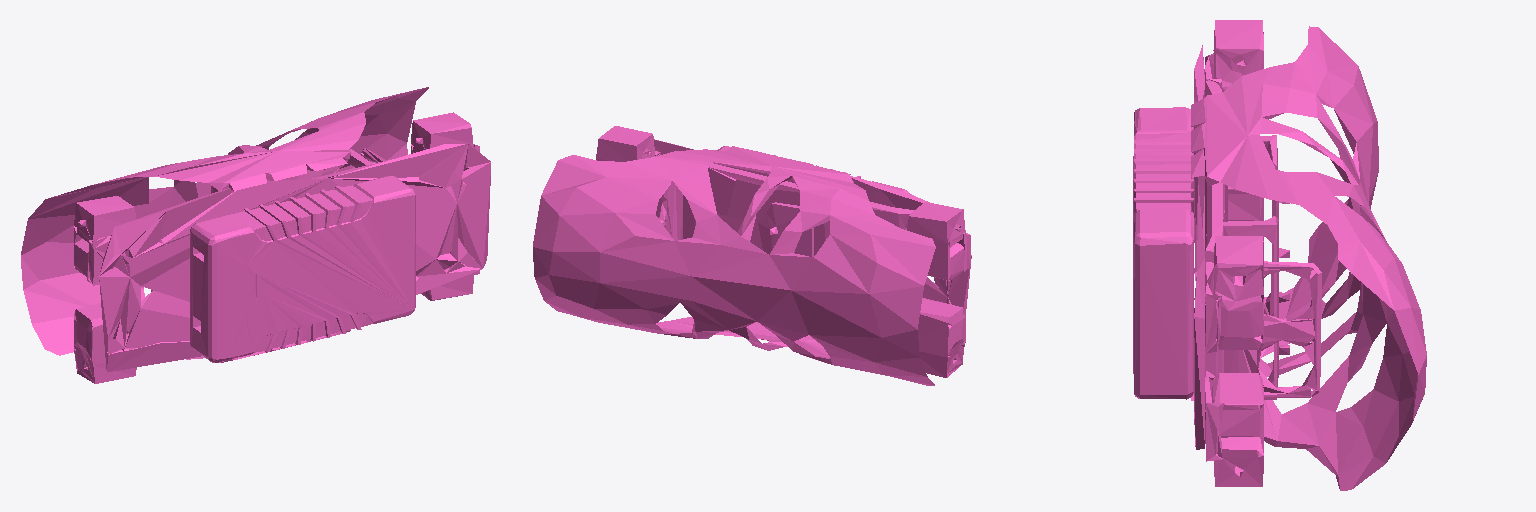
The robot description file, URDF, robot "PinkPanther_CML":
<?xml version="1.0" encoding="utf-8"?>
<!-- This URDF was automatically created by SolidWorks to URDF Exporter! Originally created by [author] ([email redacted]) 
     Commit Version: 1.5.1-0-g916b5db  Build Version: 1.5.7152.31018
     For more information, please see http://wiki.ros.org/sw_urdf_exporter -->
<robot
  name="PinkPanther_CML">
  <link
    name="base_link">
    <inertial>
      <origin
        xyz="0.00454071999132192 6.47897566883972E-05 0.0652075601364906"
        rpy="0 0 0" />
      <mass
        value="0.140325255511383" />
      <inertia
        ixx="0.000366286276832393"
        ixy="7.33485979630388E-08"
        ixz="-7.63809950386849E-05"
        iyy="0.000945919015213186"
        iyz="5.95557864844883E-08"
        izz="0.00109187006228455" />
    </inertial>
    <visual>
      <origin
        xyz="0 0 0"
        rpy="0 0 0" />
      <geometry>
        <mesh
          filename="package://PinkPanther_CML/meshes/low_qual/base_link_REVISED.STL" />
      </geometry>
      <material
        name="">
        <color
          rgba="1 0.470588235294118 0.823529411764706 1" />
      </material>
    </visual>
    <collision>
      <origin
        xyz="0 0 0"
        rpy="0 0 0" />
      <geometry>
        <mesh
          filename="package://PinkPanther_CML/meshes/low_qual/base_link_REVISED.STL" />
      </geometry>
    </collision>
  </link>
  <link
    name="lf_shoulder_link">
    <inertial>
      <origin
        xyz="-0.03075 0.010763 0.045764"
        rpy="0 0 0" />
      <mass
        value="0.0824" />
      <inertia
        ixx="1.9553E-05"
        ixy="2.0818E-07"
        ixz="3.2177E-07"
        iyy="1.9067E-05"
        iyz="-9.6011E-07"
        izz="2.1806E-05" />
    </inertial>
    <visual>
      <origin
        xyz="0 0 0"
        rpy="0 0 0" />
      <geometry>
        <mesh
          filename="package://PinkPanther_CML/meshes/low_qual/lf_shoulder_link.STL" />
      </geometry>
      <material
        name="">
        <color
          rgba="0.79216 0.81961 0.93333 1" />
      </material>
    </visual>
    <collision>
      <origin
        xyz="0 0 0"
        rpy="0 0 0" />
      <geometry>
        <mesh
          filename="package://PinkPanther_CML/meshes/low_qual/lf_shoulder_link.STL" />
      </geometry>
    </collision>
  </link>
  <joint
    name="LF_ARMPIT"
    type="revolute">
    <origin
      xyz="0.086416 0.04808 0.020486"
      rpy="1.5666 -5.102E-05 3.1416" />
    <parent
      link="base_link" />
    <child
      link="lf_shoulder_link" />
    <axis
      xyz="1 -5.102E-05 0" />
    <limit
      lower="-0.6"
      upper="0.6"
      effort="4"
      velocity="0.188" />
  </joint>
  <link
    name="lf_thigh_link">
    <inertial>
      <origin
        xyz="0.059996 -0.034184 0.032377"
        rpy="0 0 0" />
      <mass
        value="0.20467" />
      <inertia
        ixx="5.2641E-05"
        ixy="-6.8704E-06"
        ixz="-9.1195E-09"
        iyy="0.0002077"
        iyz="4.2931E-10"
        izz="0.00019669" />
    </inertial>
    <visual>
      <origin
        xyz="0 0 0"
        rpy="0 0 0" />
      <geometry>
        <mesh
          filename="package://PinkPanther_CML/meshes/low_qual/lf_thigh_link.STL" />
      </geometry>
      <material
        name="">
        <color
          rgba="0.79216 0.81961 0.93333 1" />
      </material>
    </visual>
    <collision>
      <origin
        xyz="0 0 0"
        rpy="0 0 0" />
      <geometry>
        <mesh
          filename="package://PinkPanther_CML/meshes/low_qual/lf_thigh_link.STL" />
      </geometry>
    </collision>
  </link>
  <joint
    name="LF_ELBOW"
    type="revolute">
    <origin
      xyz="-0.029275 -0.014657 0.021201"
      rpy="0 0 -0.43549" />
    <parent
      link="lf_shoulder_link" />
    <child
      link="lf_thigh_link" />
    <axis
      xyz="0 0 1" />
    <limit
      lower="-1"
      upper="1.2"
      effort="4"
      velocity="0.188" />
  </joint>
  <link
    name="lf_calf_link">
    <inertial>
      <origin
        xyz="-0.0562746607594241 -0.0312019222312566 0.0300902624876031"
        rpy="0 0 0" />
      <mass
        value="0.124150378027878" />
      <inertia
        ixx="2.7133125427073E-05"
        ixy="6.52330853460605E-06"
        ixz="-6.70500134135611E-09"
        iyy="0.000259455346859976"
        iyz="3.49049560417286E-09"
        izz="0.000248912943667171" />
    </inertial>
    <visual>
      <origin
        xyz="0 0 0"
        rpy="0 0 0" />
      <geometry>
        <mesh
          filename="package://PinkPanther_CML/meshes/low_qual/lf_calf_link.STL" />
      </geometry>
      <material
        name="">
        <color
          rgba="0.792156862745098 0.819607843137255 0.933333333333333 1" />
      </material>
    </visual>
    <collision>
      <origin
        xyz="0 0 0"
        rpy="0 0 0" />
      <geometry>
        <mesh
          filename="package://PinkPanther_CML/meshes/low_qual/lf_calf_link.STL" />
      </geometry>
    </collision>
  </link>
  <joint
    name="LF_KNEE"
    type="revolute">
    <origin
      xyz="0.14707 -0.034829 0.0022602"
      rpy="0 0 0.93771" />
    <parent
      link="lf_thigh_link" />
    <child
      link="lf_calf_link" />
    <axis
      xyz="0 0 1" />
    <limit
      lower="-0.6"
      upper="1.5"
      effort="4"
      velocity="0.188" />
  </joint>
  <link
    name="rf_shoulder_link">
    <inertial>
      <origin
        xyz="-0.030838 0.010759 -0.045563"
        rpy="0 0 0" />
      <mass
        value="0.082397" />
      <inertia
        ixx="1.9553E-05"
        ixy="2.0806E-07"
        ixz="-3.2173E-07"
        iyy="1.9066E-05"
        iyz="9.7295E-07"
        izz="2.1806E-05" />
    </inertial>
    <visual>
      <origin
        xyz="0 0 0"
        rpy="0 0 0" />
      <geometry>
        <mesh
          filename="package://PinkPanther_CML/meshes/low_qual/rf_shoulder_link.STL" />
      </geometry>
      <material
        name="">
        <color
          rgba="0.79216 0.81961 0.93333 1" />
      </material>
    </visual>
    <collision>
      <origin
        xyz="0 0 0"
        rpy="0 0 0" />
      <geometry>
        <mesh
          filename="package://PinkPanther_CML/meshes/low_qual/rf_shoulder_link.STL" />
      </geometry>
    </collision>
  </link>
  <joint
    name="RF_ARMPIT"
    type="revolute">
    <origin
      xyz="0.086926 -0.04808 0.020486"
      rpy="1.5736 5.102E-05 3.1416" />
    <parent
      link="base_link" />
    <child
      link="rf_shoulder_link" />
    <axis
      xyz="1 5.102E-05 0" />
    <limit
      lower="-0.6"
      upper="0.6"
      effort="4"
      velocity="0.188" />
  </joint>
  <link
    name="rf_thigh_link">
    <inertial>
      <origin
        xyz="0.059996319544716 -0.0341838862880749 -0.0326354177099718"
        rpy="0 0 0" />
      <mass
        value="0.204666659119259" />
      <inertia
        ixx="5.26405020771446E-05"
        ixy="-6.87045925823286E-06"
        ixz="-9.16134381790139E-09"
        iyy="0.000207700318237006"
        iyz="4.24645067196885E-10"
        izz="0.000196694737864689" />
    </inertial>
    <visual>
      <origin
        xyz="0 0 0"
        rpy="0 0 0" />
      <geometry>
        <mesh
          filename="package://PinkPanther_CML/meshes/low_qual/rf_thigh_link.STL" />
      </geometry>
      <material
        name="">
        <color
          rgba="0.792156862745098 0.819607843137255 0.933333333333333 1" />
      </material>
    </visual>
    <collision>
      <origin
        xyz="0 0 0"
        rpy="0 0 0" />
      <geometry>
        <mesh
          filename="package://PinkPanther_CML/meshes/low_qual/rf_thigh_link.STL" />
      </geometry>
    </collision>
  </link>
  <joint
    name="RF_ELBOW"
    type="revolute">
    <origin
      xyz="-0.029276 -0.01466 -0.020328"
      rpy="0 0 -0.42784" />
    <parent
      link="rf_shoulder_link" />
    <child
      link="rf_thigh_link" />
    <axis
      xyz="0 0 1" />
    <limit
      lower="-1"
      upper="1.2"
      effort="4"
      velocity="0.188" />
  </joint>
  <link
    name="rf_calf_link">
    <inertial>
      <origin
        xyz="-0.0562746594086836 -0.031201912312426 -0.0304061026125255"
        rpy="0 0 0" />
      <mass
        value="0.124150283030027" />
      <inertia
        ixx="2.71331044981176E-05"
        ixy="6.52340639611649E-06"
        ixz="-7.24574922911367E-09"
        iyy="0.000259454989110842"
        iyz="3.51796278658813E-09"
        izz="0.000248912583960562" />
    </inertial>
    <visual>
      <origin
        xyz="0 0 0"
        rpy="0 0 0" />
      <geometry>
        <mesh
          filename="package://PinkPanther_CML/meshes/low_qual/rf_calf_link.STL" />
      </geometry>
      <material
        name="">
        <color
          rgba="0.792156862745098 0.819607843137255 0.933333333333333 1" />
      </material>
    </visual>
    <collision>
      <origin
        xyz="0 0 0"
        rpy="0 0 0" />
      <geometry>
        <mesh
          filename="package://PinkPanther_CML/meshes/low_qual/rf_calf_link.STL" />
      </geometry>
    </collision>
  </link>
  <joint
    name="RF_KNEE"
    type="revolute">
    <origin
      xyz="0.14707 -0.034829 -0.0017563"
      rpy="0 0 0.93378" />
    <parent
      link="rf_thigh_link" />
    <child
      link="rf_calf_link" />
    <axis
      xyz="0 0 1" />
    <limit
      lower="-0.6"
      upper="1.5"
      effort="4"
      velocity="0.188" />
  </joint>
  <link
    name="lb_shoulder_link">
    <inertial>
      <origin
        xyz="0.0268112424173798 0.0107596960598041 0.0457636308417059"
        rpy="0 0 0" />
      <mass
        value="0.0823995961404887" />
      <inertia
        ixx="1.95534937544982E-05"
        ixy="2.08177132098421E-07"
        ixz="3.21769091341535E-07"
        iyy="1.90668948433689E-05"
        iyz="-9.60105437391446E-07"
        izz="2.1805721300216E-05" />
    </inertial>
    <visual>
      <origin
        xyz="0 0 0"
        rpy="0 0 0" />
      <geometry>
        <mesh
          filename="package://PinkPanther_CML/meshes/low_qual/lb_shoulder_link.STL" />
      </geometry>
      <material
        name="">
        <color
          rgba="0.792156862745098 0.819607843137255 0.933333333333333 1" />
      </material>
    </visual>
    <collision>
      <origin
        xyz="0 0 0"
        rpy="0 0 0" />
      <geometry>
        <mesh
          filename="package://PinkPanther_CML/meshes/low_qual/lb_shoulder_link.STL" />
      </geometry>
    </collision>
  </link>
  <joint
    name="LB_ARMPIT"
    type="revolute">
    <origin
      xyz="-0.090843 0.04808 0.020486"
      rpy="1.5668 -5.102E-05 -3.1416" />
    <parent
      link="base_link" />
    <child
      link="lb_shoulder_link" />
    <axis
      xyz="1 -5.102E-05 0" />
    <limit
      lower="-0.6"
      upper="0.6"
      effort="4"
      velocity="0.188" />
  </joint>
  <link
    name="lb_thigh_link">
    <inertial>
      <origin
        xyz="0.0599962531882521 -0.0341838743931865 0.0323774662751334"
        rpy="0 0 0" />
      <mass
        value="0.204667094970786" />
      <inertia
        ixx="5.26405893727808E-05"
        ixy="-6.87037873543066E-06"
        ixz="-9.16501184768225E-09"
        iyy="0.000207700430481537"
        iyz="4.05445574988764E-10"
        izz="0.00019669493307742" />
    </inertial>
    <visual>
      <origin
        xyz="0 0 0"
        rpy="0 0 0" />
      <geometry>
        <mesh
          filename="package://PinkPanther_CML/meshes/low_qual/lb_thigh_link.STL" />
      </geometry>
      <material
        name="">
        <color
          rgba="0.792156862745098 0.819607843137255 0.933333333333333 1" />
      </material>
    </visual>
    <collision>
      <origin
        xyz="0 0 0"
        rpy="0 0 0" />
      <geometry>
        <mesh
          filename="package://PinkPanther_CML/meshes/low_qual/lb_thigh_link.STL" />
      </geometry>
    </collision>
  </link>
  <joint
    name="LB_ELBOW"
    type="revolute">
    <origin
      xyz="0.028287 -0.014659 0.021201"
      rpy="0 0 -0.46494" />
    <parent
      link="lb_shoulder_link" />
    <child
      link="lb_thigh_link" />
    <axis
      xyz="0 0 1" />
    <limit
      lower="-1"
      upper="1.2"
      effort="4"
      velocity="0.188" />
  </joint>
  <link
    name="lb_calf_link">
    <inertial>
      <origin
        xyz="-0.0562746283337433 -0.0312019131985415 0.0300903536116095"
        rpy="0 0 0" />
      <mass
        value="0.124150345082354" />
      <inertia
        ixx="2.71331212983521E-05"
        ixy="6.52346284637176E-06"
        ixz="-6.71092220781001E-09"
        iyy="0.000259455087280996"
        iyz="3.48846832947781E-09"
        izz="0.000248912689473426" />
    </inertial>
    <visual>
      <origin
        xyz="0 0 0"
        rpy="0 0 0" />
      <geometry>
        <mesh
          filename="package://PinkPanther_CML/meshes/low_qual/lb_calf_link.STL" />
      </geometry>
      <material
        name="">
        <color
          rgba="0.792156862745098 0.819607843137255 0.933333333333333 1" />
      </material>
    </visual>
    <collision>
      <origin
        xyz="0 0 0"
        rpy="0 0 0" />
      <geometry>
        <mesh
          filename="package://PinkPanther_CML/meshes/low_qual/lb_calf_link.STL" />
      </geometry>
    </collision>
  </link>
  <joint
    name="LB_KNEE"
    type="revolute">
    <origin
      xyz="0.14707 -0.034829 0.0022602"
      rpy="0 0 0.97678" />
    <parent
      link="lb_thigh_link" />
    <child
      link="lb_calf_link" />
    <axis
      xyz="0 0 1" />
    <limit
      lower="-0.6"
      upper="1.5"
      effort="4"
      velocity="0.188" />
  </joint>
  <link
    name="rb_shoulder_link">
    <inertial>
      <origin
        xyz="0.0267231655282443 0.010762075261042 -0.0455633379422674"
        rpy="0 0 0" />
      <mass
        value="0.0823973934424499" />
      <inertia
        ixx="1.95529733228597E-05"
        ixy="2.08060157237391E-07"
        ixz="-3.21734054822669E-07"
        iyy="1.90663267893417E-05"
        iyz="9.7294659149752E-07"
        izz="2.18055626025946E-05" />
    </inertial>
    <visual>
      <origin
        xyz="0 0 0"
        rpy="0 0 0" />
      <geometry>
        <mesh
          filename="package://PinkPanther_CML/meshes/low_qual/rb_shoulder_link.STL" />
      </geometry>
      <material
        name="">
        <color
          rgba="0.792156862745098 0.819607843137255 0.933333333333333 1" />
      </material>
    </visual>
    <collision>
      <origin
        xyz="0 0 0"
        rpy="0 0 0" />
      <geometry>
        <mesh
          filename="package://PinkPanther_CML/meshes/low_qual/rb_shoulder_link.STL" />
      </geometry>
    </collision>
  </link>
  <joint
    name="RB_ARMPIT"
    type="revolute">
    <origin
      xyz="-0.090333 -0.04808 0.020486"
      rpy="1.5701 5.102E-05 -3.1416" />
    <parent
      link="base_link" />
    <child
      link="rb_shoulder_link" />
    <axis
      xyz="1 5.102E-05 0" />
    <limit
      lower="-0.6"
      upper="0.6"
      effort="4"
      velocity="0.188" />
  </joint>
  <link
    name="rb_thigh_link">
    <inertial>
      <origin
        xyz="0.0599962641867017 -0.0341838839492449 -0.0322633194933277"
        rpy="0 0 0" />
      <mass
        value="0.204666926145609" />
      <inertia
        ixx="5.26405352597993E-05"
        ixy="-6.87043903505302E-06"
        ixz="-9.13736190376255E-09"
        iyy="0.000207700313943162"
        iyz="3.89261437438874E-10"
        izz="0.000196694776060325" />
    </inertial>
    <visual>
      <origin
        xyz="0 0 0"
        rpy="0 0 0" />
      <geometry>
        <mesh
          filename="package://PinkPanther_CML/meshes/low_qual/rb_thigh_link.STL" />
      </geometry>
      <material
        name="">
        <color
          rgba="0.792156862745098 0.819607843137255 0.933333333333333 1" />
      </material>
    </visual>
    <collision>
      <origin
        xyz="0 0 0"
        rpy="0 0 0" />
      <geometry>
        <mesh
          filename="package://PinkPanther_CML/meshes/low_qual/rb_thigh_link.STL" />
      </geometry>
    </collision>
  </link>
  <joint
    name="RB_ELBOW"
    type="revolute">
    <origin
      xyz="0.028285 -0.014657 -0.0207"
      rpy="0 0 -0.46283" />
    <parent
      link="rb_shoulder_link" />
    <child
      link="rb_thigh_link" />
    <axis
      xyz="0 0 1" />
    <limit
      lower="-1"
      upper="1.2"
      effort="4"
      velocity="0.188" />
  </joint>
  <link
    name="rb_calf_link">
    <inertial>
      <origin
        xyz="-0.0562746202737299 -0.031201906093811 -0.0300128862017215"
        rpy="0 0 0" />
      <mass
        value="0.124150292571281" />
      <inertia
        ixx="2.71331103837322E-05"
        ixy="6.52354994917408E-06"
        ixz="-6.97162935785559E-09"
        iyy="0.000259454856699454"
        iyz="3.50104288566254E-09"
        izz="0.0002489124593" />
    </inertial>
    <visual>
      <origin
        xyz="0 0 0"
        rpy="0 0 0" />
      <geometry>
        <mesh
          filename="package://PinkPanther_CML/meshes/low_qual/rb_calf_link.STL" />
      </geometry>
      <material
        name="">
        <color
          rgba="0.792156862745098 0.819607843137255 0.933333333333333 1" />
      </material>
    </visual>
    <collision>
      <origin
        xyz="0 0 0"
        rpy="0 0 0" />
      <geometry>
        <mesh
          filename="package://PinkPanther_CML/meshes/low_qual/rb_calf_link.STL" />
      </geometry>
    </collision>
  </link>
  <joint
    name="RB_KNEE"
    type="revolute">
    <origin
      xyz="0.14707 -0.034829 -0.0017774"
      rpy="0 0 0.9789" />
    <parent
      link="rb_thigh_link" />
    <child
      link="rb_calf_link" />
    <axis
      xyz="0 0 1" />
    <limit
      lower="-0.6"
      upper="1.5"
      effort="4"
      velocity="0.188" />
  </joint>
</robot>

--- What the picture shows (computed from the rendered views, not written in the file) ---
3 views of the same robot in one strip: view 1: azimuth 30°, elevation 25°; view 2: azimuth 150°, elevation 25°; view 3: azimuth 270°, elevation 25° (orthographic).
Robot: PinkPanther_CML — 13 links, 12 joints (12 revolute); root link base_link; default pose: all joints at 0.
Links seen in each view (by area): view 1: base_link; view 2: base_link; view 3: base_link.
Boxes of the visible links, x1,y1,x2,y2 form: base_link: (21,87,490,383); base_link: (533,126,971,385); base_link: (1133,20,1426,490).
Size in the robot's own frame: 280 by 135 by 128 metres.
2 mesh visuals loaded from 13 distinct referenced files (2 binary STL); not drawn: 11 (reference not matched to a file when rendering).